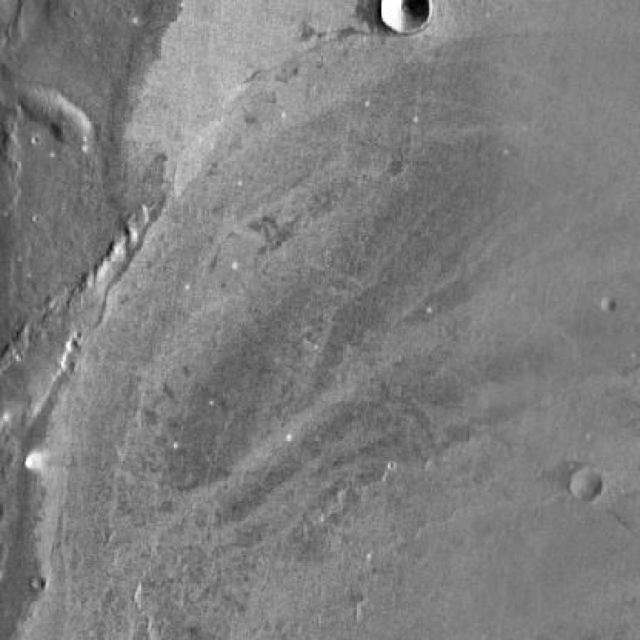crater: (385, 0, 429, 31), (572, 469, 602, 500), (602, 292, 618, 308)
